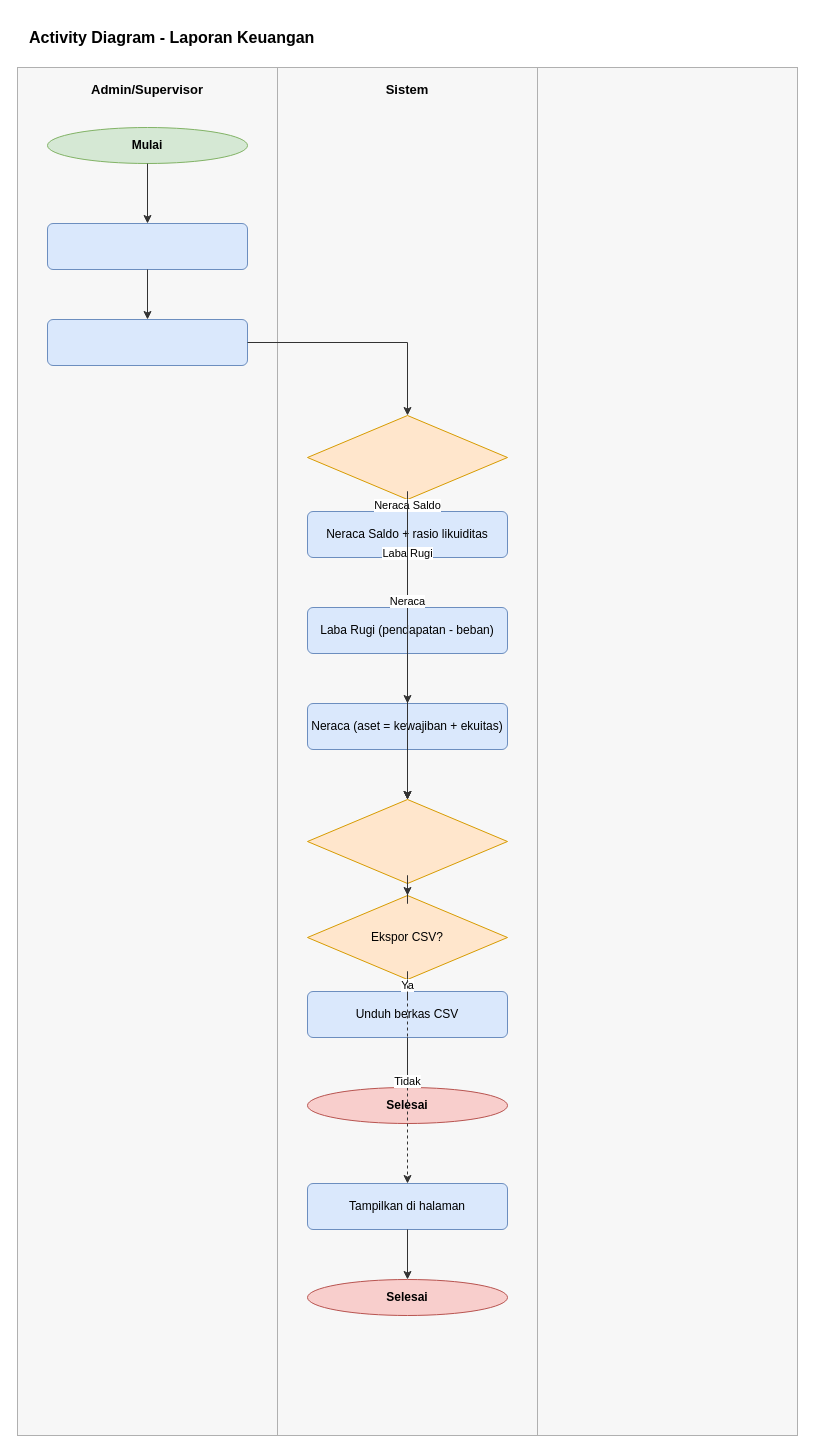
The diagram is 815 pixels wide and 1453 high, and some of its shapes have lost their labels. Here are the shapes that lost their labels. From the top down, the centre of each, then its label:
At (x=147, y=246): "Buka menu laporan keuangan".
At (x=147, y=342): "Pilih jenis laporan".
At (x=407, y=457): "Jenis laporan?".
At (x=667, y=751): "Database".
At (x=407, y=841): "Tampilkan laporan".
